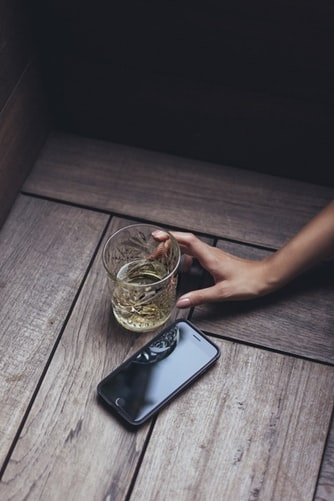whiskey: (99, 229, 178, 325)
